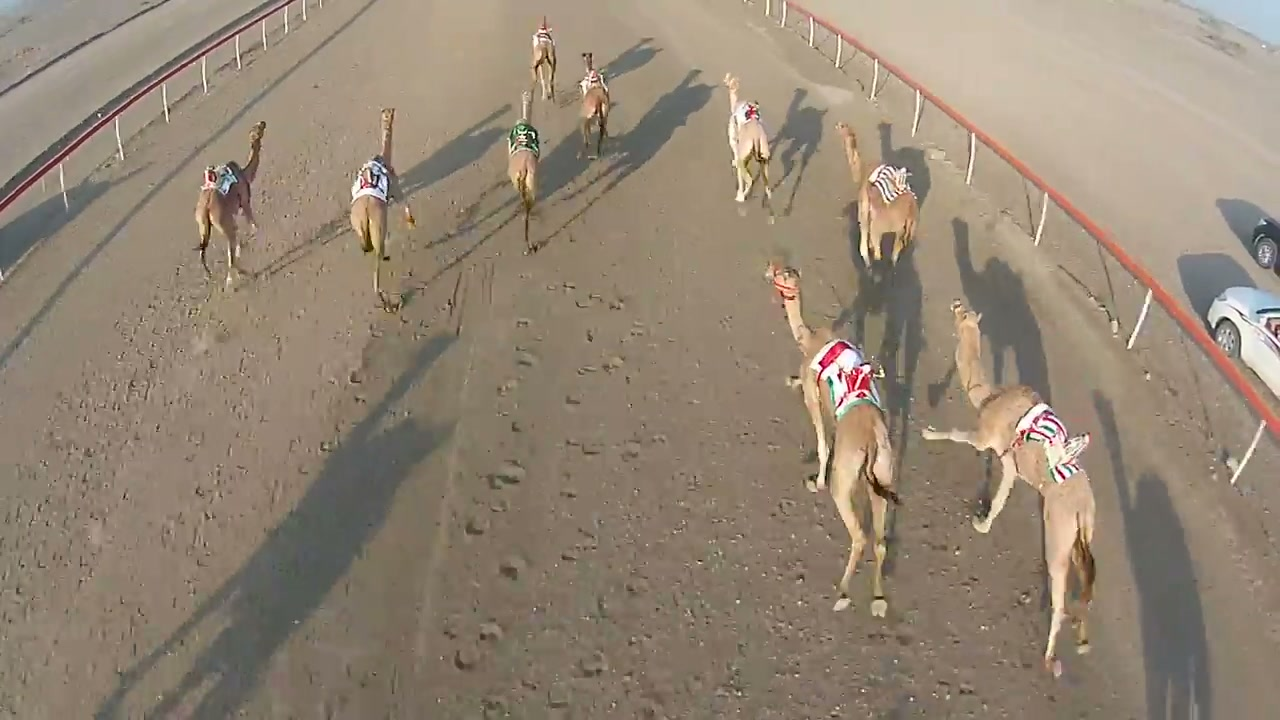animal_footprint: (222, 316, 417, 708), (542, 289, 649, 689), (448, 296, 542, 697)
